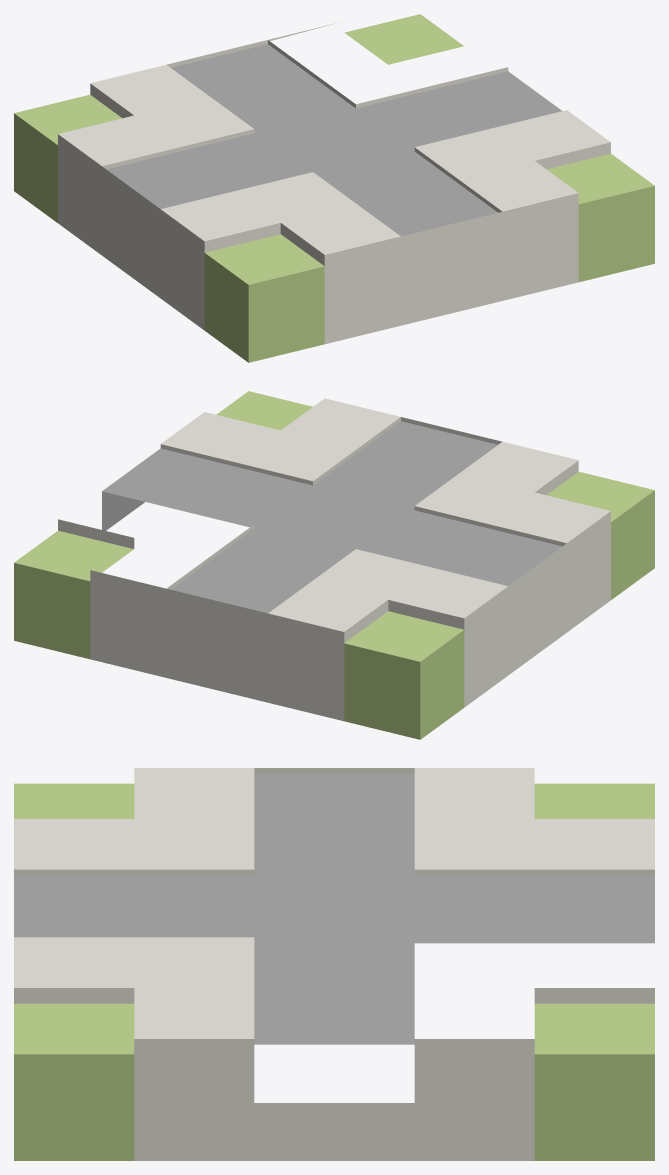
File: roadtile-166.glb
The picture shows the model from 3 angles, top to bottom: view 1: azimuth 30°, elevation 25°; view 2: azimuth 150°, elevation 25°; view 3: azimuth 270°, elevation 25°; orthographic projection. The views are drawn at different scales.
Visible parts, largest first — view 1: Mesh1 Group1 Model; view 2: Mesh1 Group1 Model; view 3: Mesh1 Group1 Model.
Boxes of the visible parts, x1,y1,x2,y2 form: Mesh1 Group1 Model: (14,14,654,362); Mesh1 Group1 Model: (14,391,654,739); Mesh1 Group1 Model: (14,768,654,1160).
Size of the model in its own units: 3 by 0.63 by 3.
